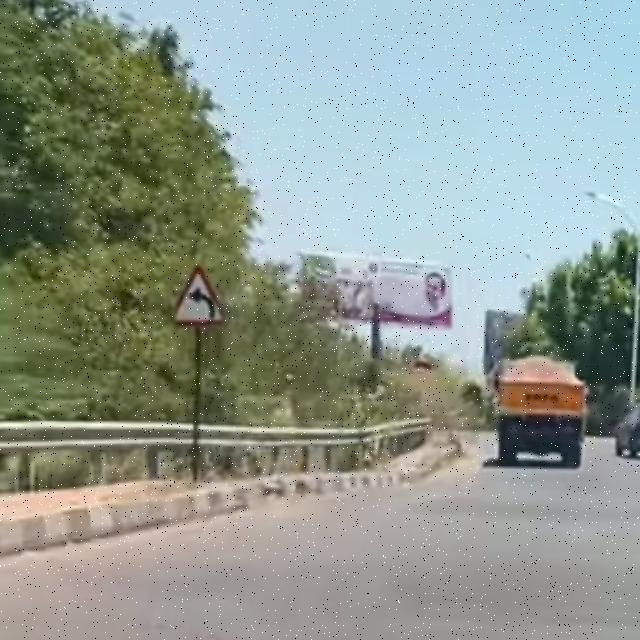left_hand_curve: (170, 262, 234, 328)
